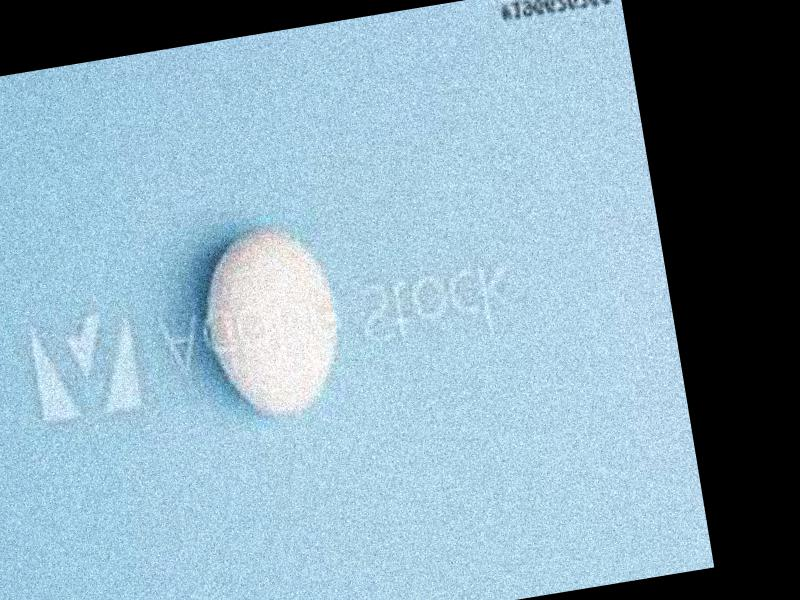Eggs: (195, 222, 348, 421)
